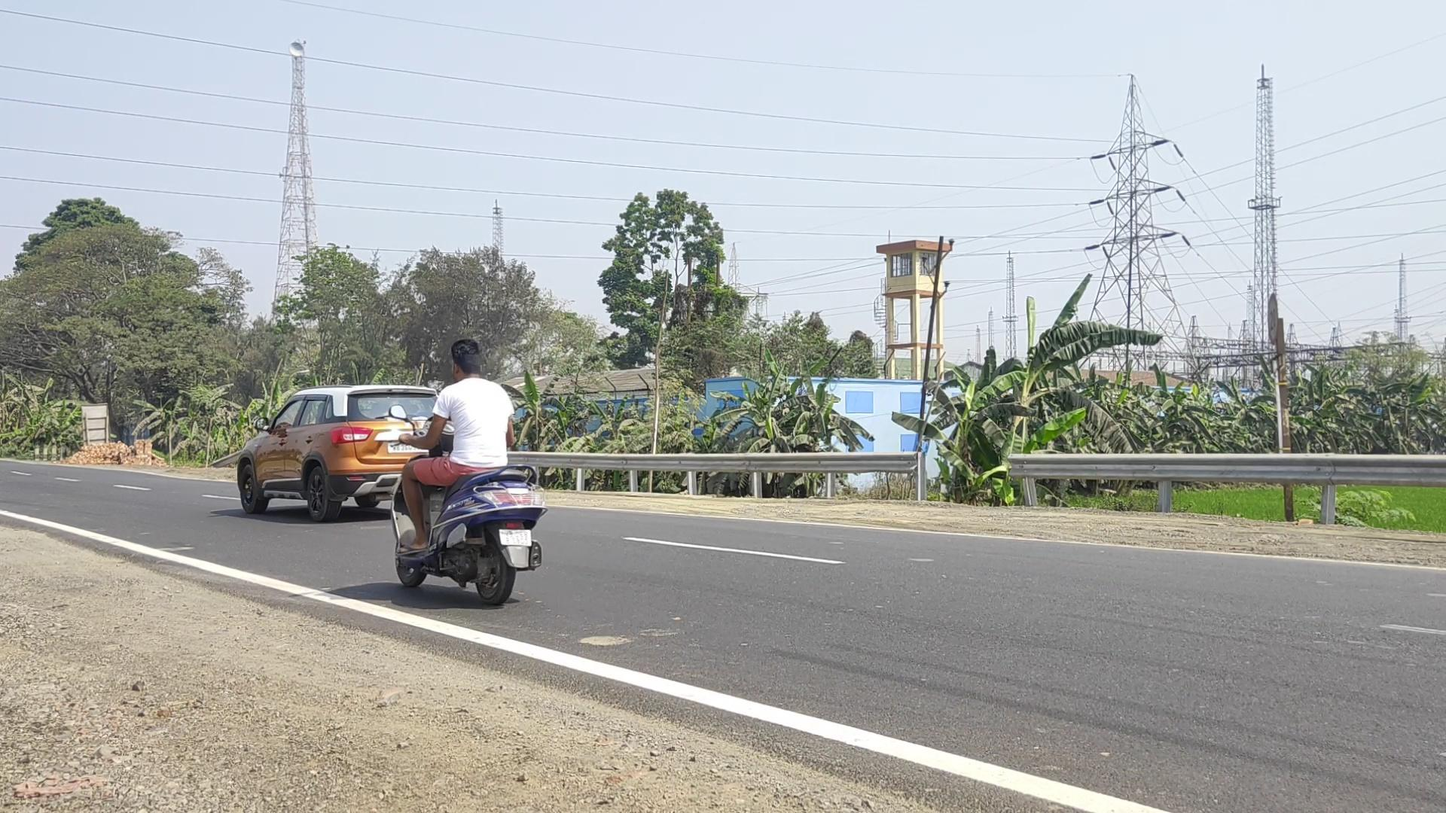bike: (387, 340, 547, 603)
car: (236, 385, 459, 524)
